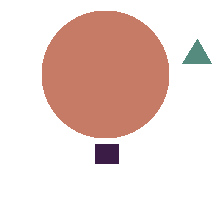circle: (42, 11, 168, 137)
rectangle: (95, 144, 118, 163)
triangle: (182, 39, 211, 63)
